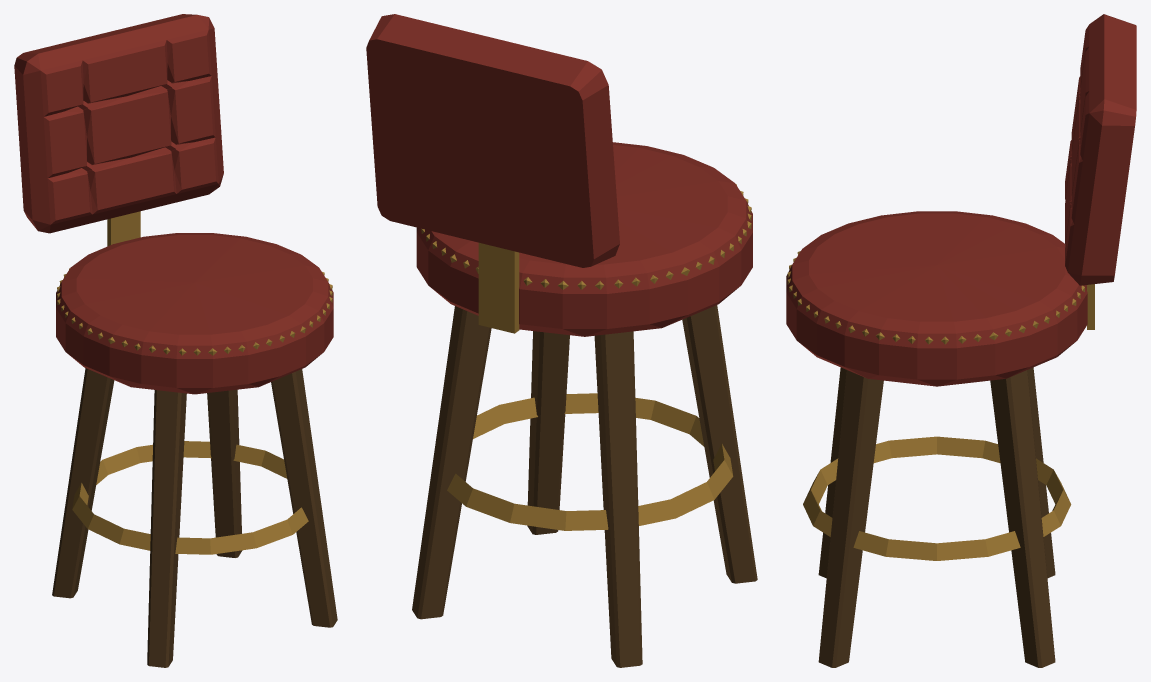
Rendered from gameChair.glb.
3 renders of one model, left to right at view 1: azimuth 30°, elevation 25°; view 2: azimuth 150°, elevation 25°; view 3: azimuth 270°, elevation 25°, orthographic. The views are drawn at different scales.
Parts seen in each view (by area): view 1: seat, legs; view 2: seat, legs; view 3: seat, legs.
Boxes of the visible parts, x1,y1,x2,y2 form: seat: (14,14,333,394); legs: (52,368,337,667); seat: (366,14,752,336); legs: (412,305,757,667); seat: (786,14,1136,386); legs: (803,367,1071,667).
Size of the model in its own units: 0.4521 by 0.9288 by 0.5254.
